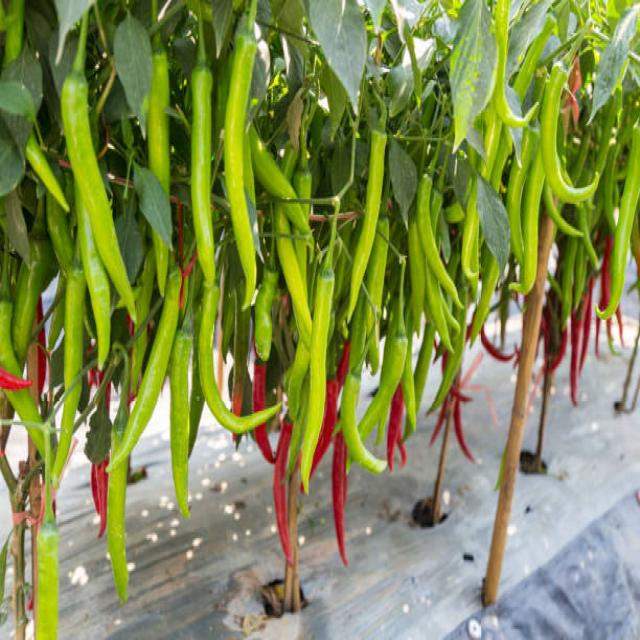Unripe: (61, 75, 136, 325), (109, 281, 179, 472), (196, 314, 283, 438), (224, 39, 257, 309), (596, 130, 639, 318), (189, 69, 219, 323), (542, 67, 598, 201), (301, 278, 333, 496), (348, 136, 385, 318), (52, 279, 84, 488), (167, 336, 198, 519), (492, 0, 535, 127), (417, 174, 459, 303), (357, 342, 407, 447), (340, 373, 389, 474), (81, 201, 109, 367), (106, 456, 133, 605), (277, 237, 311, 348), (519, 143, 544, 292), (31, 518, 58, 640), (507, 158, 525, 264), (409, 218, 424, 320)
